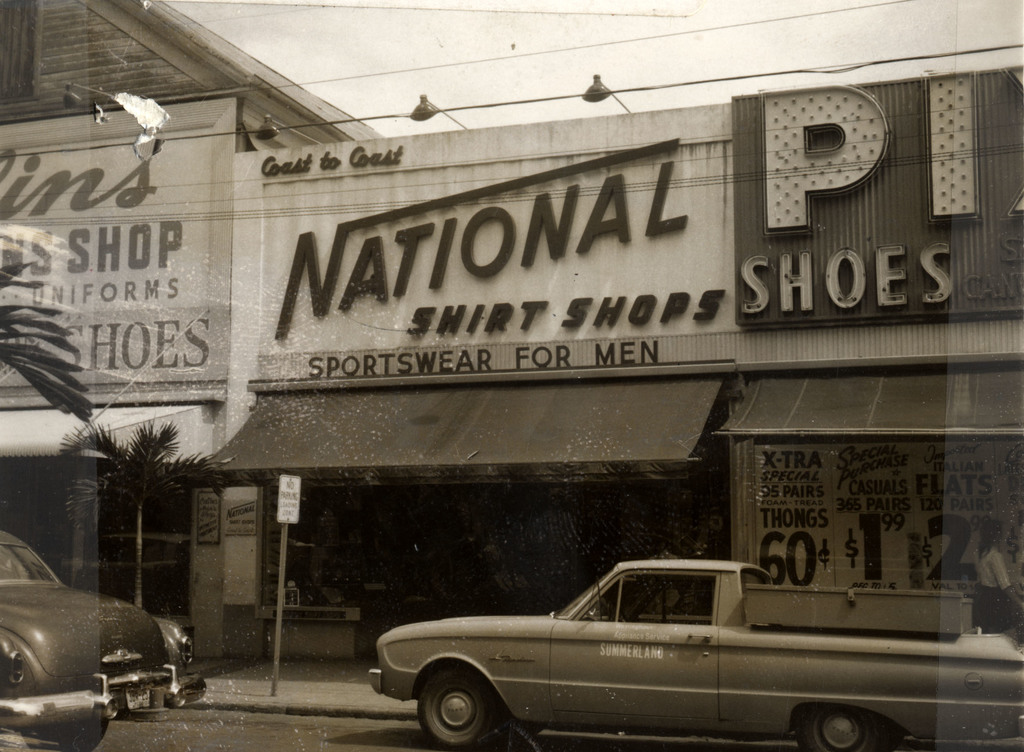Wheel: (411, 673, 511, 748), (797, 705, 899, 751), (55, 718, 104, 751)
